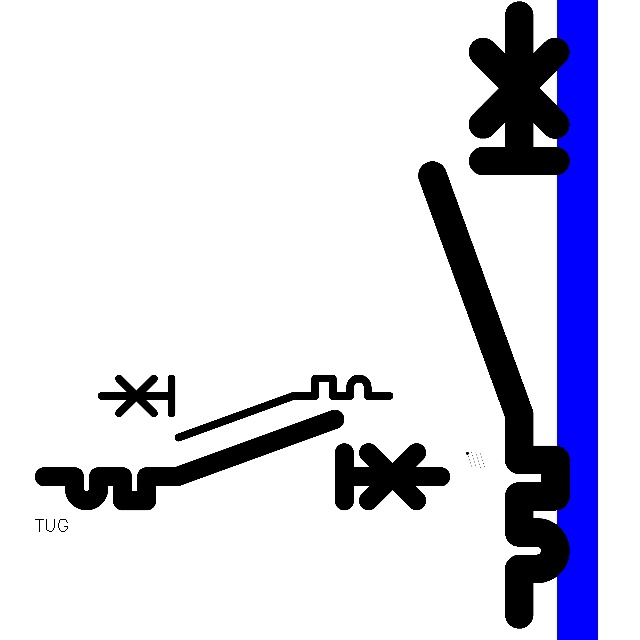interruptor_termomagnetico: (417, 0, 571, 630), (34, 409, 450, 511), (94, 371, 397, 445)
